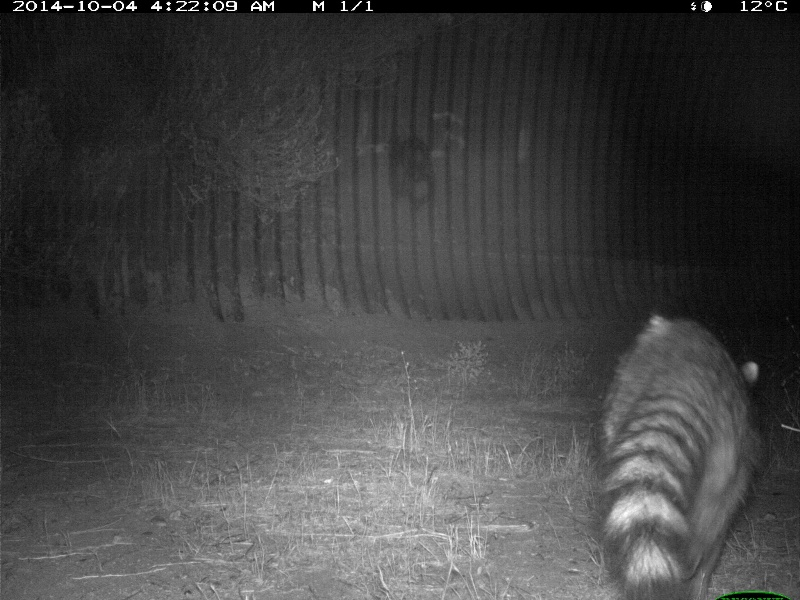raccoon: (590, 308, 769, 594)
